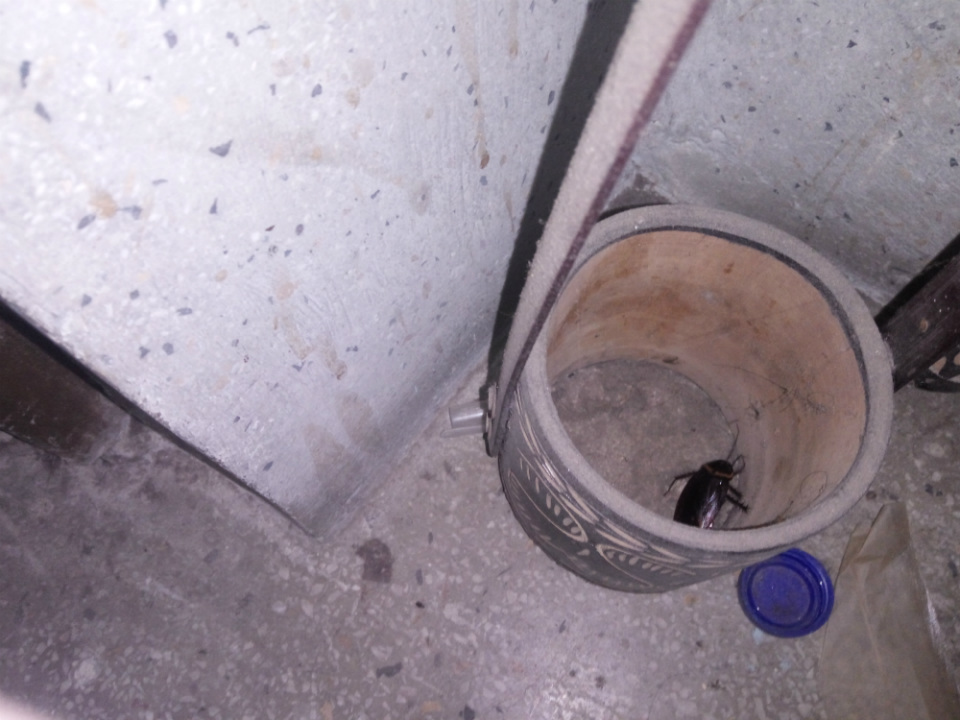cockroach: (601, 401, 804, 547)
